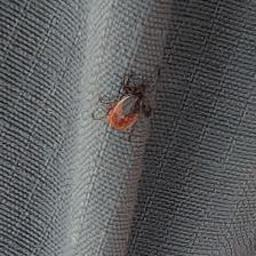Ixodes scapularis: (92, 69, 162, 142)
